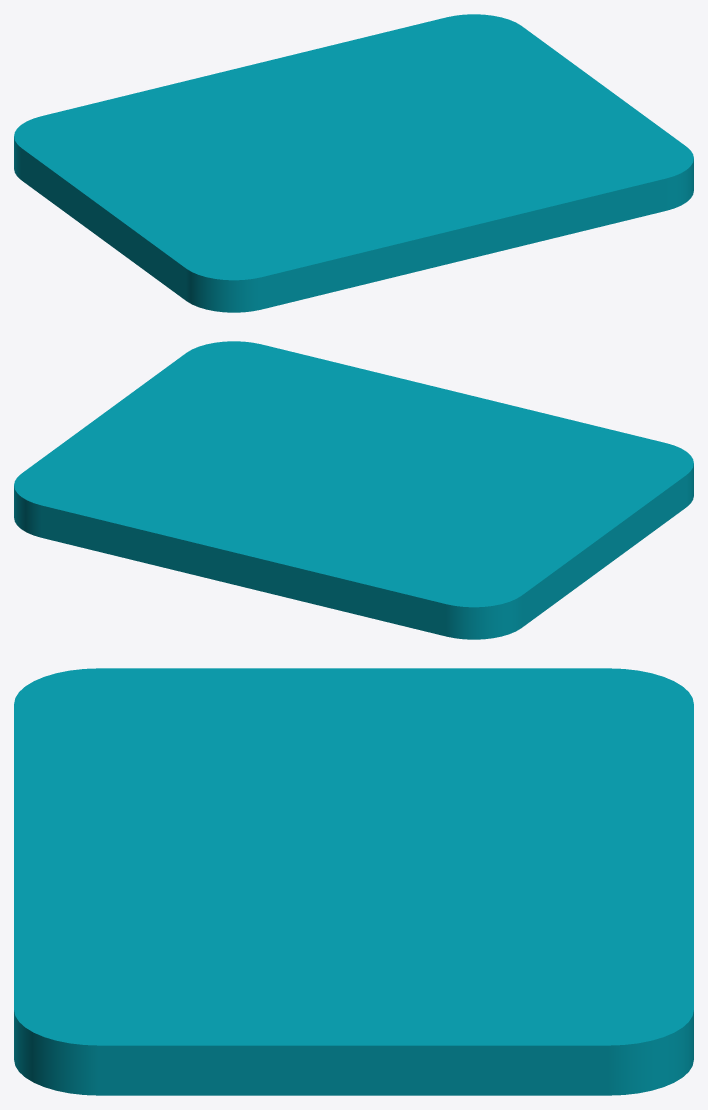
The model's file is imu.dae.
The picture shows the model from 3 angles, top to bottom: view 1: azimuth 30°, elevation 25°; view 2: azimuth 150°, elevation 25°; view 3: azimuth 270°, elevation 25°; orthographic projection. The views are drawn at different scales.
Visible parts, largest first — view 1: fakeIMU; view 2: fakeIMU; view 3: fakeIMU.
Part boxes in pixels (x1,y1,x2,y2): fakeIMU: (14,14,693,312); fakeIMU: (14,341,693,639); fakeIMU: (14,668,693,1095).
Size of the model in its own units: 26.67 by 20.32 by 1.65.
